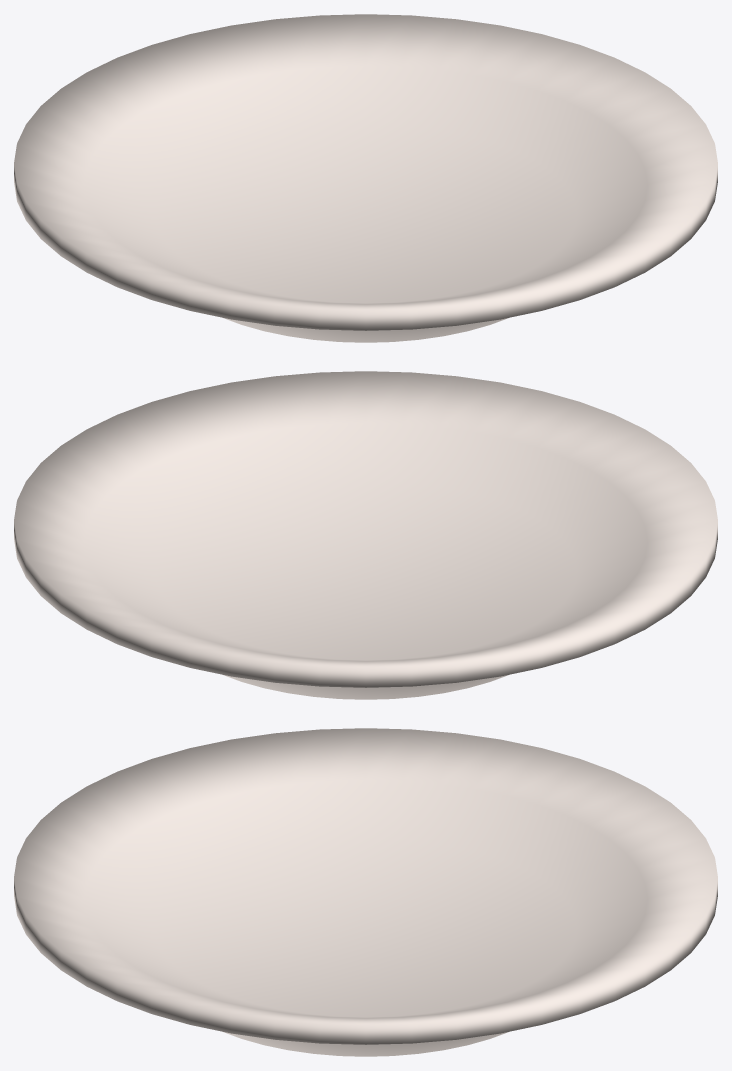
The model's file is MenuEmptyPlate_001.fbx.
3 views of the same model, one above another, from view 1: azimuth 30°, elevation 25°; view 2: azimuth 150°, elevation 25°; view 3: azimuth 270°, elevation 25° (orthographic).
Parts seen in each view (by area): view 1: 28_Dinner_Plate.001; view 2: 28_Dinner_Plate.001; view 3: 28_Dinner_Plate.001.
Boxes of the visible parts, x1,y1,x2,y2 form: 28_Dinner_Plate.001: (14,14,717,342); 28_Dinner_Plate.001: (14,371,717,699); 28_Dinner_Plate.001: (14,728,717,1056).
Bounding box in the file's own units: 67.35 × 9.88 × 67.35.
